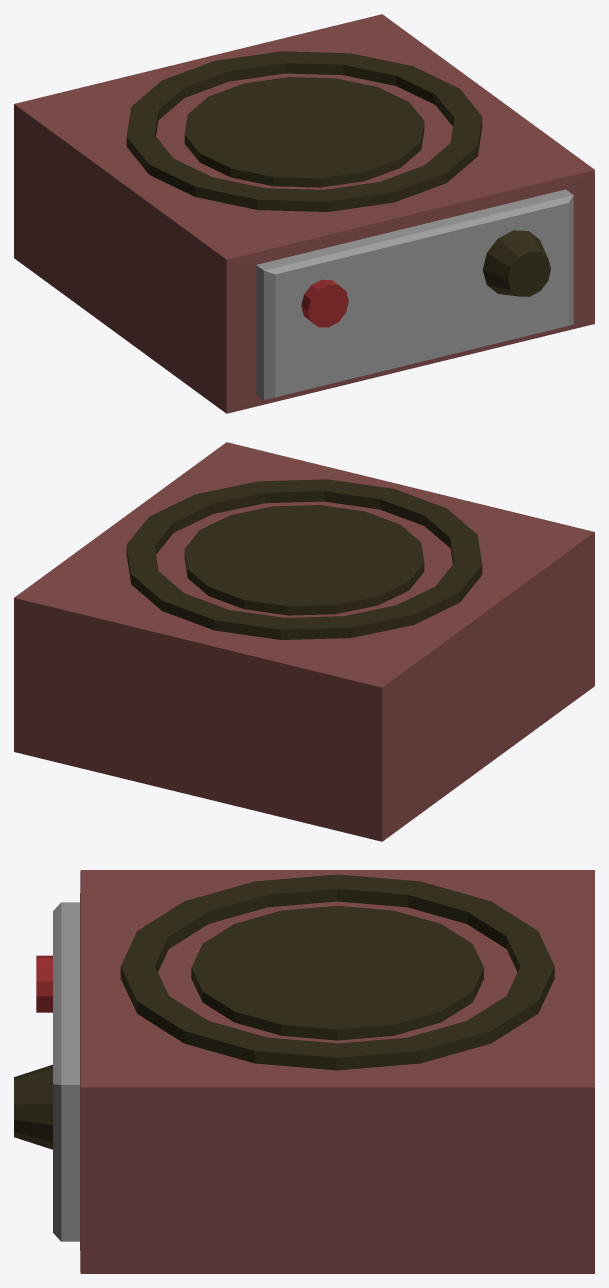
Rendered from SM_Stove.fbx.
3 renders of one model, top to bottom at view 1: azimuth 30°, elevation 25°; view 2: azimuth 150°, elevation 25°; view 3: azimuth 270°, elevation 25°, orthographic. The views are drawn at different scales.
Visible parts, largest first — view 1: stove; view 2: stove; view 3: stove.
Part boxes in pixels (x1,y1,x2,y2): stove: [14, 14, 594, 413]; stove: [14, 442, 594, 841]; stove: [14, 870, 594, 1273].
Bounding box in the file's own units: 91.02 × 38.86 × 103.
